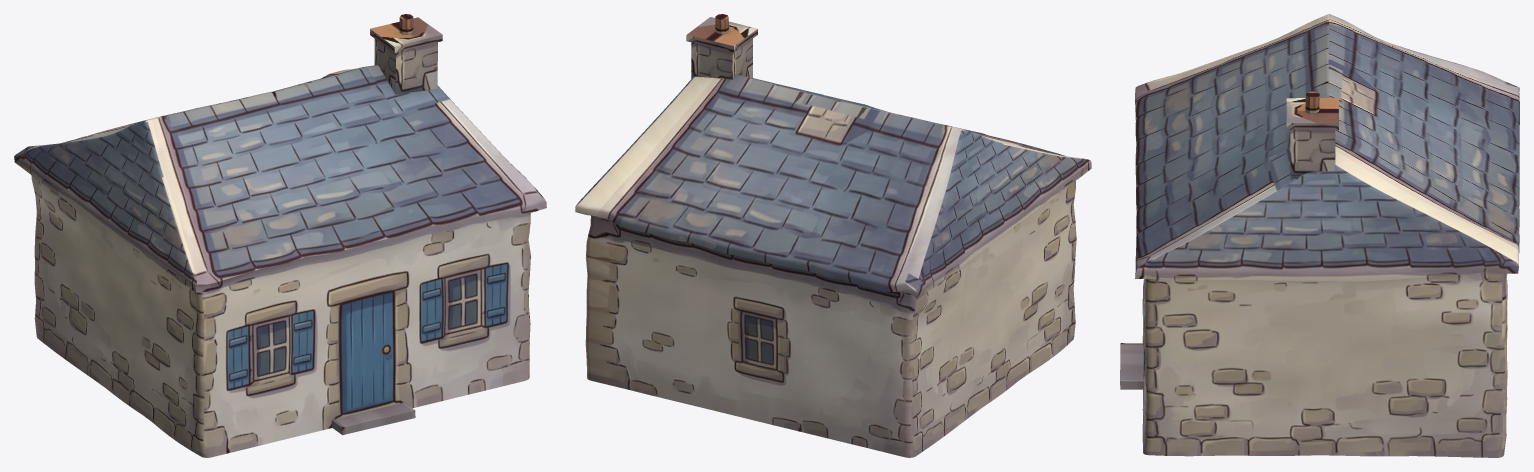
File: maison_blanche.glb
3 views of the same model, side by side, from view 1: azimuth 30°, elevation 25°; view 2: azimuth 150°, elevation 25°; view 3: azimuth 270°, elevation 25° (orthographic). The views are drawn at different scales.
Visible parts, largest first — view 1: maison; view 2: maison; view 3: maison.
Part boxes in pixels (box(x1,y1,x2,y2)): maison: box(14, 14, 546, 457); maison: box(575, 14, 1091, 457); maison: box(1120, 14, 1519, 457).
Size of the model in its own units: 5.85 by 5 by 5.37.
1 material, 1 textured.
